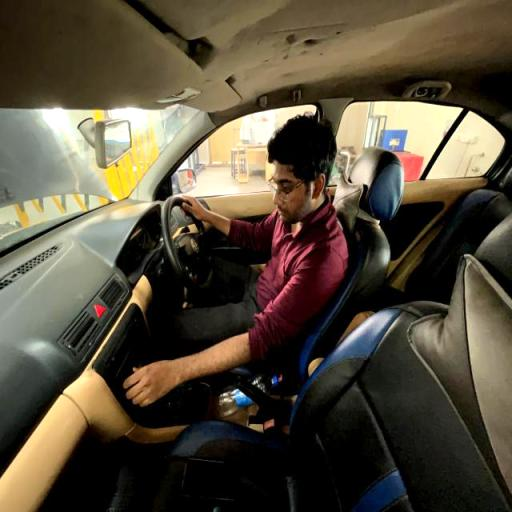operatingradio: (111, 114, 348, 409)
